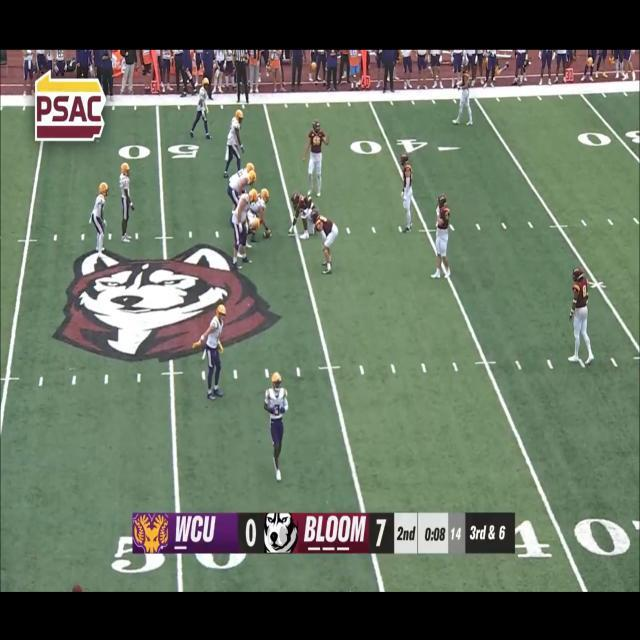football: (262, 229, 272, 239)
